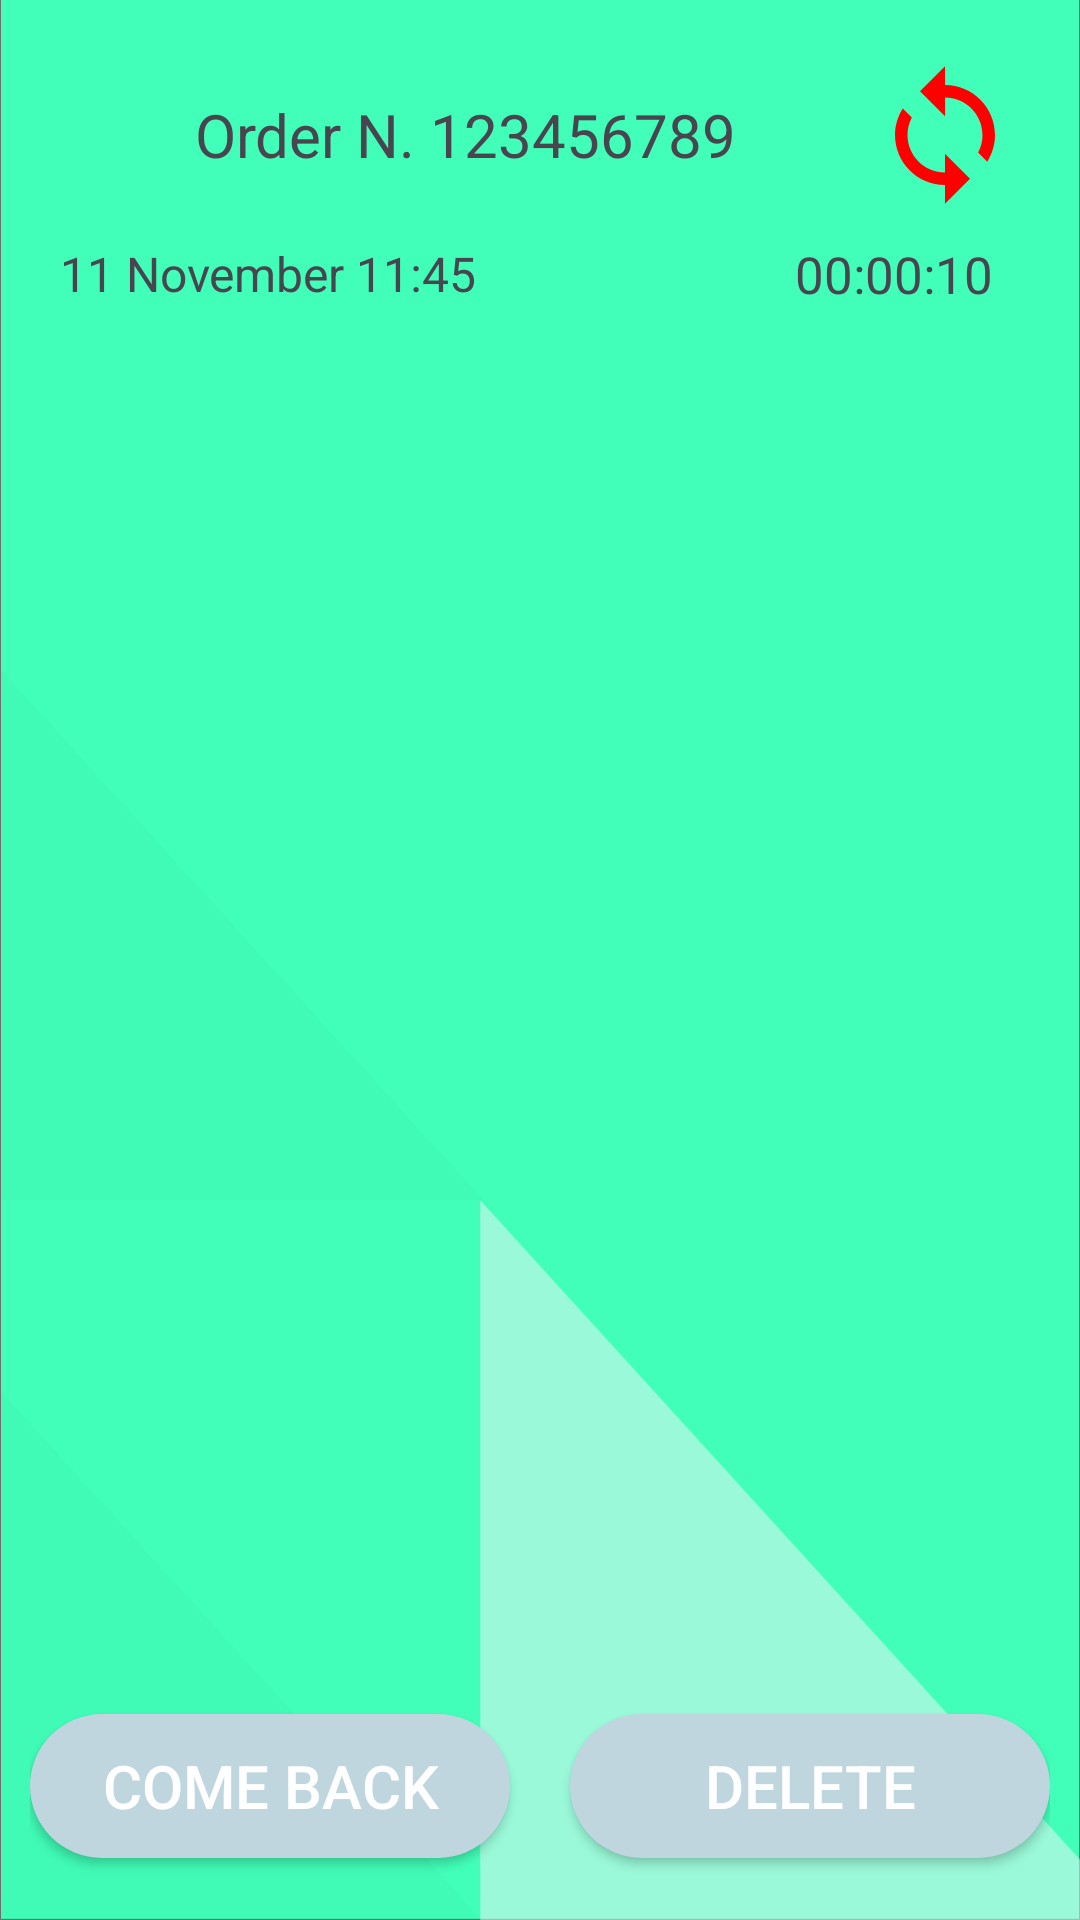

Screen size 1080w x 1920h. Icon name, then its center in pixels as (x,y):
synch not: (945,135)
